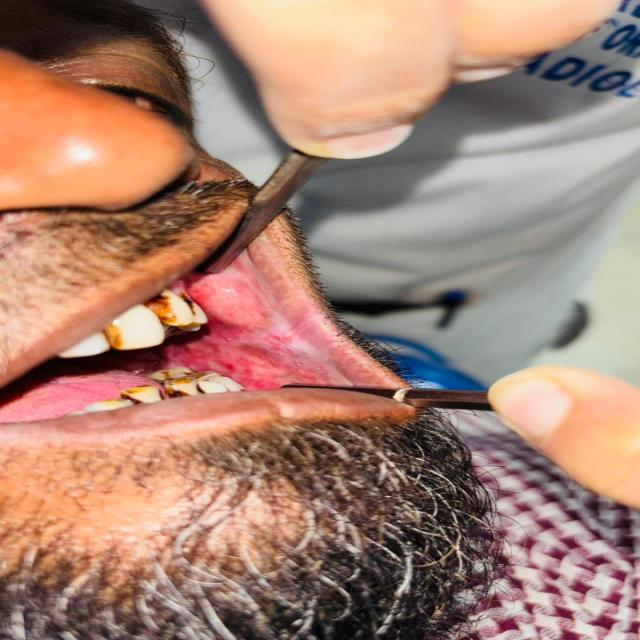leukoplakia-detection: (164, 249, 352, 391)
processing_area: (0, 253, 363, 424)
